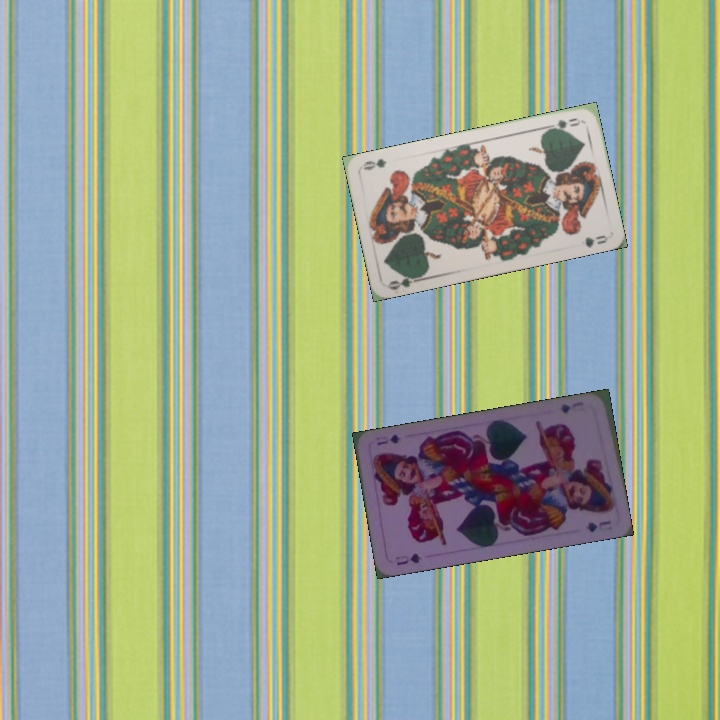GO: (385, 271, 425, 293), (543, 114, 583, 134)
GU: (392, 549, 424, 568), (555, 398, 586, 415)
